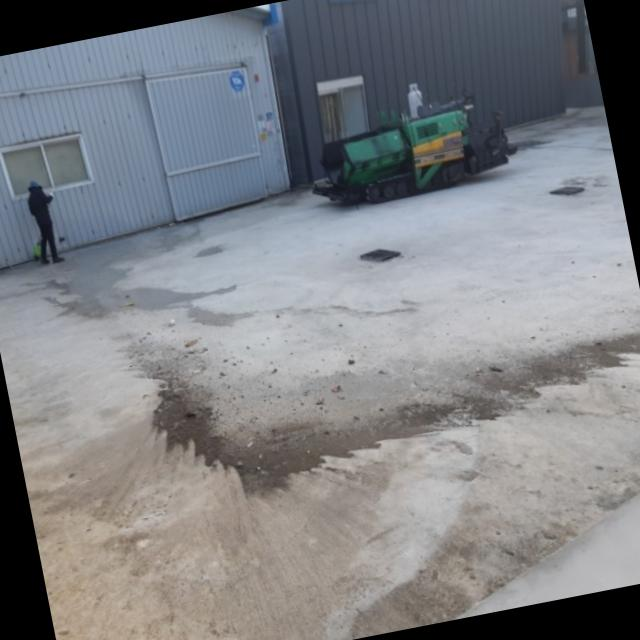cement: (0, 112, 640, 640)
